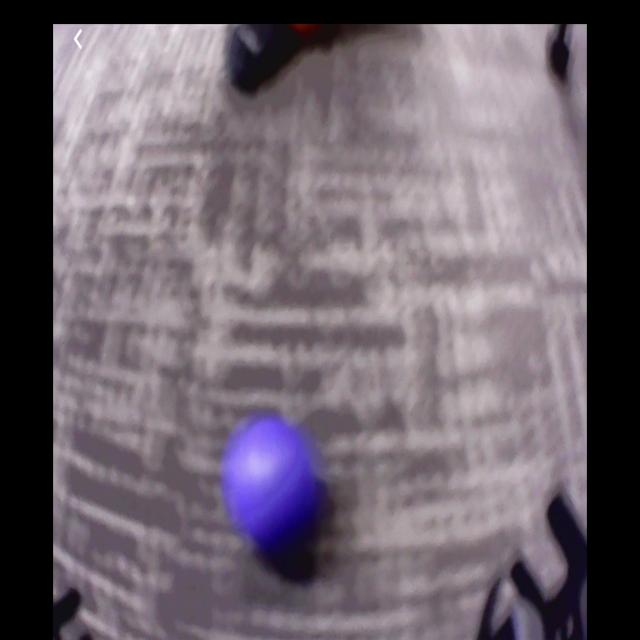ball: (226, 415, 310, 538)
